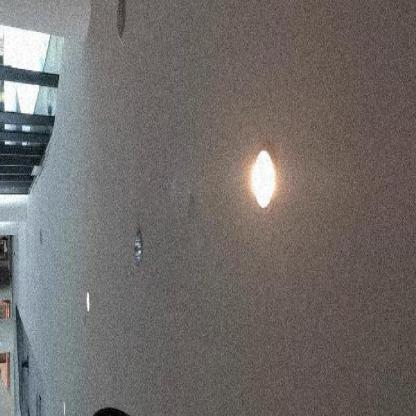light_on: (246, 125, 284, 222), (81, 281, 95, 320)
